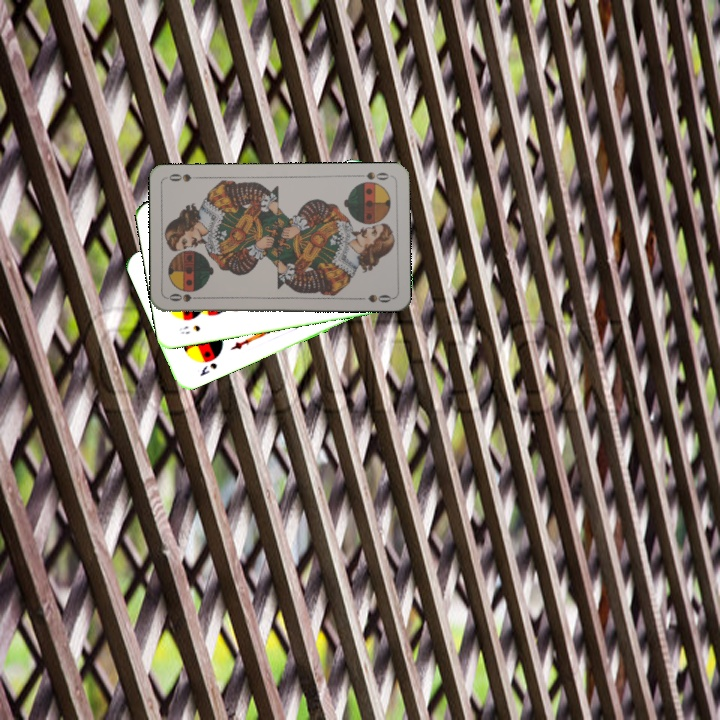S8: (175, 321, 203, 337)
SK: (196, 359, 220, 379)
SO: (165, 290, 205, 304), (353, 168, 391, 182)
